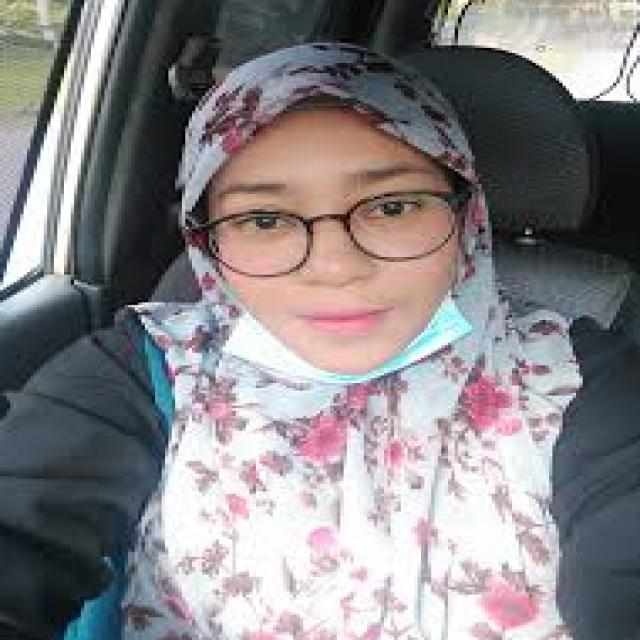Glasses: (182, 184, 478, 285)
